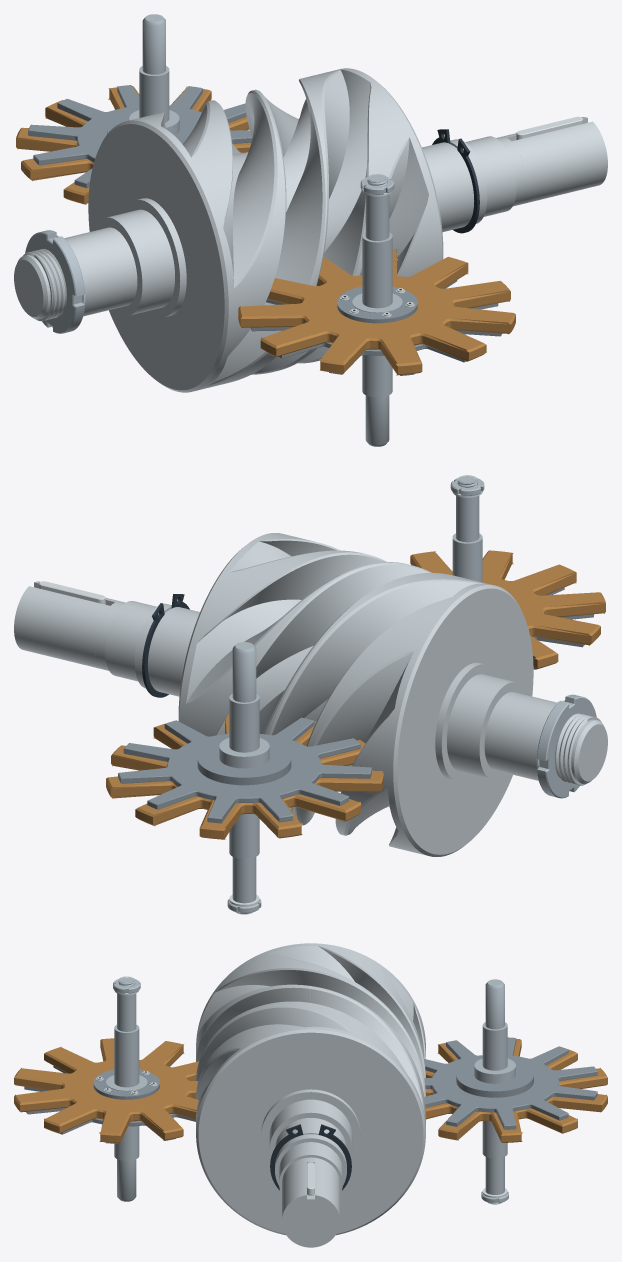
File: rotor.glb
3 renders of one model, top to bottom at view 1: azimuth 30°, elevation 25°; view 2: azimuth 150°, elevation 25°; view 3: azimuth 270°, elevation 25°, orthographic. The views are drawn at different scales.
Visible parts, largest first — view 1: Thân vít có rãnh xoắn, Bậc trục và vai trục, Đĩa răng bánh sao A, Moay-ơ và trục bánh sao A, Đầu trục truyền động có rãnh then, Giá đỡ bánh sao B, Đĩa răng bánh sao B, Moay-ơ và trục bánh sao B, Đai ốc khóa, Đoạn ren đai ốc khóa, Giá đỡ bánh sao A, Vòng giữ phía truyền động (+1 smaller); view 2: Thân vít có rãnh xoắn, Bậc trục và vai trục, Giá đỡ bánh sao B, Đĩa răng bánh sao B, Đĩa răng bánh sao A, Moay-ơ và trục bánh sao B, Đầu trục truyền động có rãnh then, Đai ốc khóa, Moay-ơ và trục bánh sao A, Đoạn ren đai ốc khóa, Vòng giữ phía truyền động, Then truyền động; view 3: Thân vít có rãnh xoắn, Đĩa răng bánh sao A, Giá đỡ bánh sao B, Bậc trục và vai trục, Moay-ơ và trục bánh sao A, Đĩa răng bánh sao B, Moay-ơ và trục bánh sao B, Đầu trục truyền động có rãnh then, Vòng giữ phía truyền động, Giá đỡ bánh sao A.
Part boxes in pixels (bbox=[...]): Thân vít có rãnh xoắn: bbox=[88, 68, 443, 392]; Bậc trục và vai trục: bbox=[14, 136, 526, 319]; Đĩa răng bánh sao A: bbox=[238, 249, 515, 375]; Moay-ơ và trục bánh sao A: bbox=[337, 174, 417, 446]; Đầu trục truyền động có rãnh then: bbox=[503, 117, 607, 204]; Giá đỡ bánh sao B: bbox=[28, 85, 252, 188]; Đĩa răng bánh sao B: bbox=[16, 86, 250, 204]; Moay-ơ và trục bánh sao B: bbox=[129, 14, 179, 135]; Đai ốc khóa: bbox=[25, 230, 85, 333]; Đoạn ren đai ốc khóa: bbox=[23, 249, 66, 321]; Giá đỡ bánh sao A: bbox=[250, 280, 502, 375]; Vòng giữ phía truyền động: bbox=[432, 129, 479, 233]; Thân vít có rãnh xoắn: bbox=[178, 533, 533, 856]; Bậc trục và vai trục: bbox=[95, 601, 607, 783]; Giá đỡ bánh sao B: bbox=[118, 717, 371, 823]; Đĩa răng bánh sao B: bbox=[106, 713, 383, 839]; Đĩa răng bánh sao A: bbox=[410, 550, 605, 669]; Moay-ơ và trục bánh sao B: bbox=[219, 642, 269, 914]; Đầu trục truyền động có rãnh then: bbox=[14, 581, 119, 669]; Đai ốc khóa: bbox=[536, 694, 596, 798]; Moay-ơ và trục bánh sao A: bbox=[452, 475, 482, 582]; Đoạn ren đai ốc khóa: bbox=[555, 713, 601, 785]; Vòng giữ phía truyền động: bbox=[142, 594, 189, 697]; Then truyền động: bbox=[39, 581, 105, 604]; Thân vít có rãnh xoắn: bbox=[196, 943, 425, 1235]; Đĩa răng bánh sao A: bbox=[14, 1038, 198, 1142]; Giá đỡ bánh sao B: bbox=[424, 1037, 597, 1129]; Bậc trục và vai trục: bbox=[261, 1089, 360, 1194]; Moay-ơ và trục bánh sao A: bbox=[93, 976, 159, 1201]; Đĩa răng bánh sao B: bbox=[425, 1039, 607, 1142]; Moay-ơ và trục bánh sao B: bbox=[474, 979, 515, 1204]; Đầu trục truyền động có rãnh then: bbox=[282, 1162, 339, 1247]; Vòng giữ phía truyền động: bbox=[270, 1124, 351, 1190]; Giá đỡ bánh sao A: bbox=[24, 1066, 195, 1143].
Bounding box in the file's own units: 3.87 × 1.76 × 4.29.
